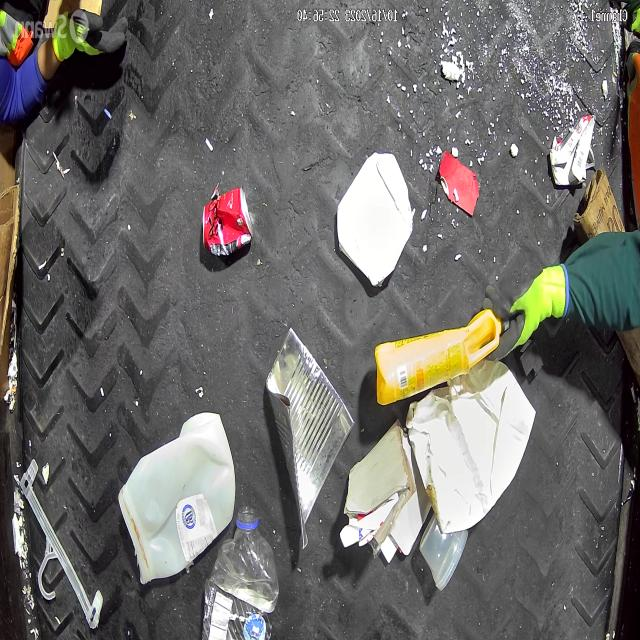can: (265, 325, 353, 555), (202, 185, 253, 256)
milk_jug: (118, 412, 236, 585)
non_white_jug: (375, 308, 500, 407)
plastic_bottle: (202, 506, 278, 640)
